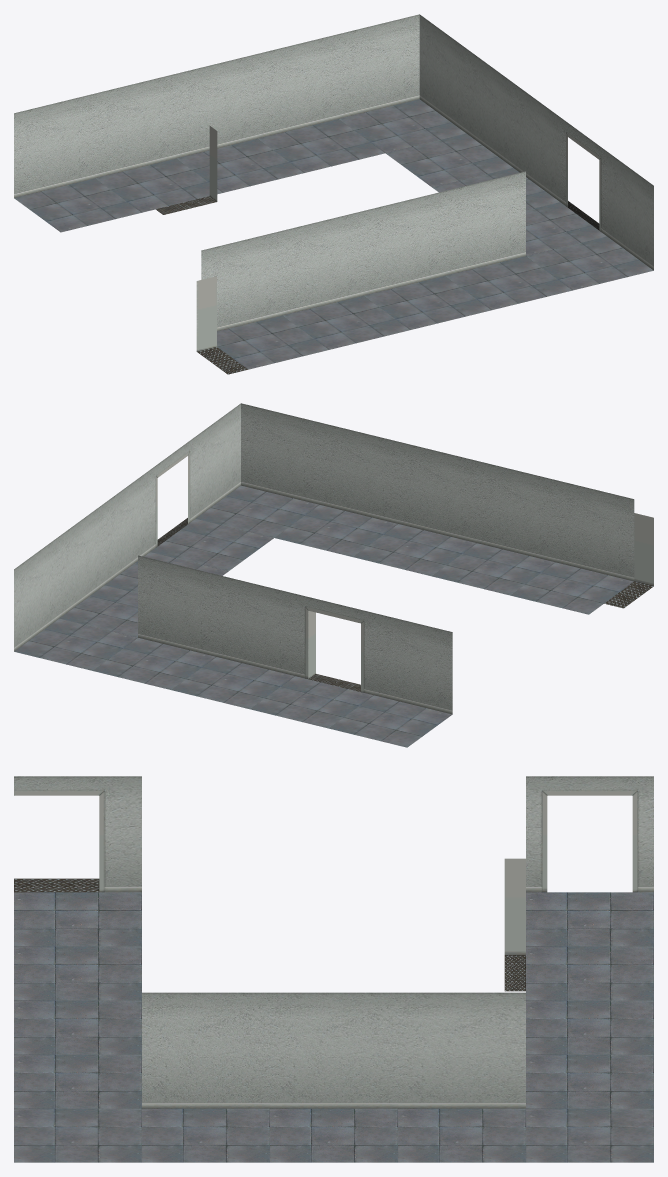
File: ControlTowerInt02A.glb
3 renders of one model, top to bottom at view 1: azimuth 30°, elevation 25°; view 2: azimuth 150°, elevation 25°; view 3: azimuth 270°, elevation 25°, orthographic. The views are drawn at different scales.
Parts seen in each view (by area): view 1: CONTROLTOWERINT02A; view 2: CONTROLTOWERINT02A; view 3: CONTROLTOWERINT02A.
Part boxes in pixels (x1,y1,x2,y2): CONTROLTOWERINT02A: [14, 14, 653, 374]; CONTROLTOWERINT02A: [14, 403, 653, 747]; CONTROLTOWERINT02A: [14, 776, 653, 1162].
Bounding box in the file's own units: 15.75 × 3 × 15.
Materials: 5 (5 with a texture image).
